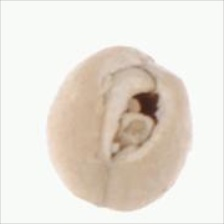L3: (96, 64, 160, 163)
L4: (44, 45, 193, 212)
